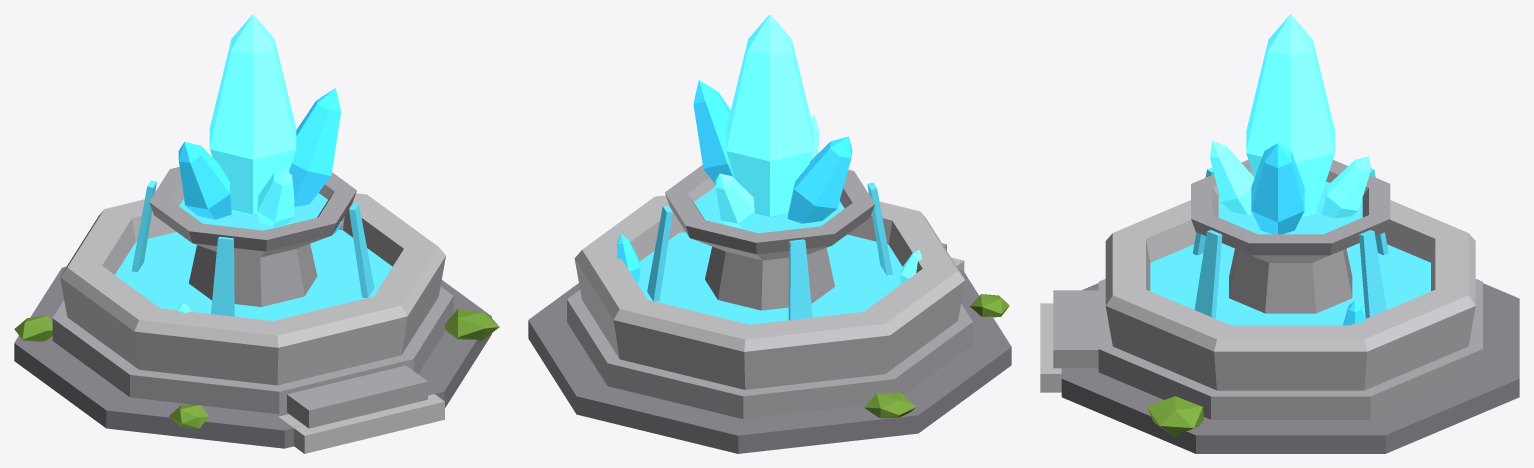
Rendered from fountain.glb.
3 renders of one model, left to right at view 1: azimuth 30°, elevation 25°; view 2: azimuth 150°, elevation 25°; view 3: azimuth 270°, elevation 25°, orthographic. The views are drawn at different scales.
Parts seen in each view (by area): view 1: Fountain; view 2: Fountain; view 3: Fountain.
Boxes of the visible parts, left/top/right/bottom form: Fountain: left=14, top=14, right=499, bottom=453; Fountain: left=528, top=14, right=1011, bottom=453; Fountain: left=1040, top=14, right=1519, bottom=453.
Size of the model in its own units: 3.57 by 2.95 by 3.73.
